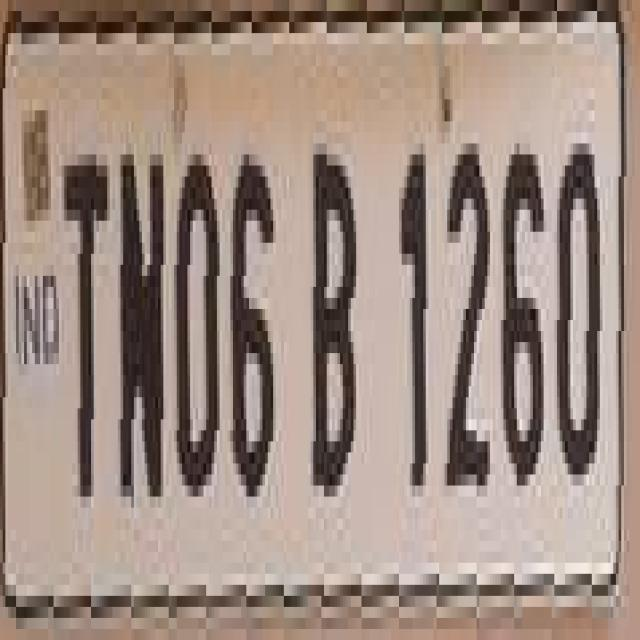license_plate: (0, 0, 616, 629)
